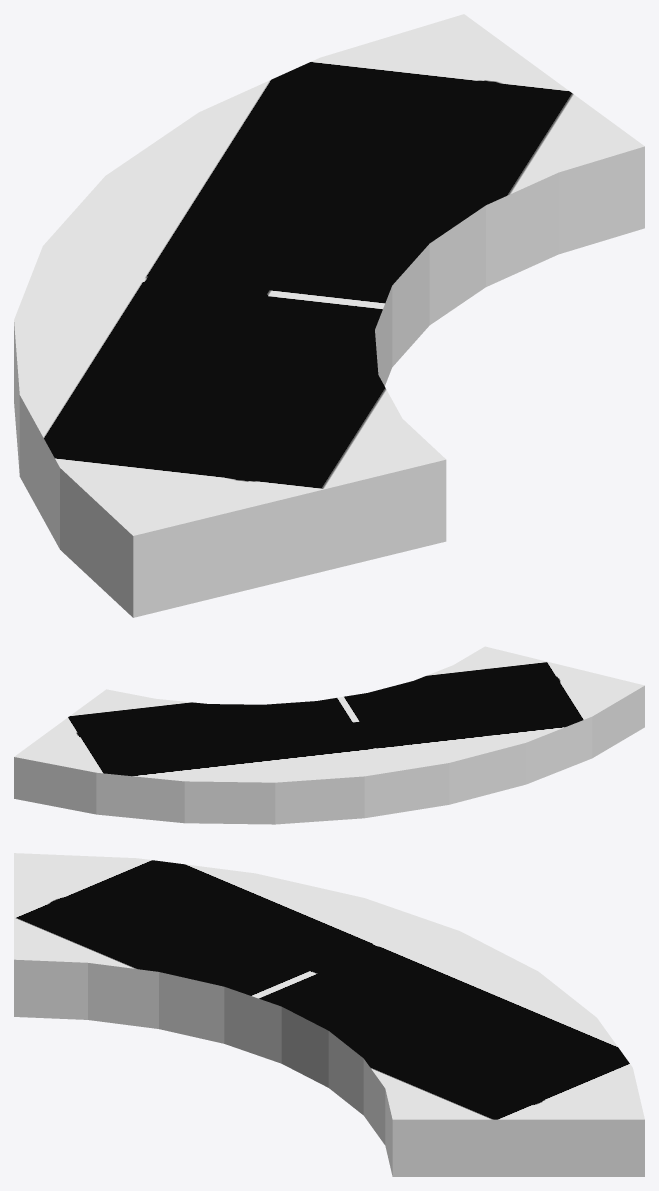
The model's file is opc2.fbx.
The picture shows the model from 3 angles, top to bottom: view 1: azimuth 30°, elevation 25°; view 2: azimuth 150°, elevation 25°; view 3: azimuth 270°, elevation 25°; orthographic projection. The views are drawn at different scales.
Parts seen in each view (by area): view 1: Circle; view 2: Circle; view 3: Circle.
Boxes of the visible parts, x1,y1,x2,y2 form: Circle: (14,14,644,617); Circle: (14,646,644,824); Circle: (14,853,644,1176).
Bounding box in the file's own units: 500 × 50 × 500.
